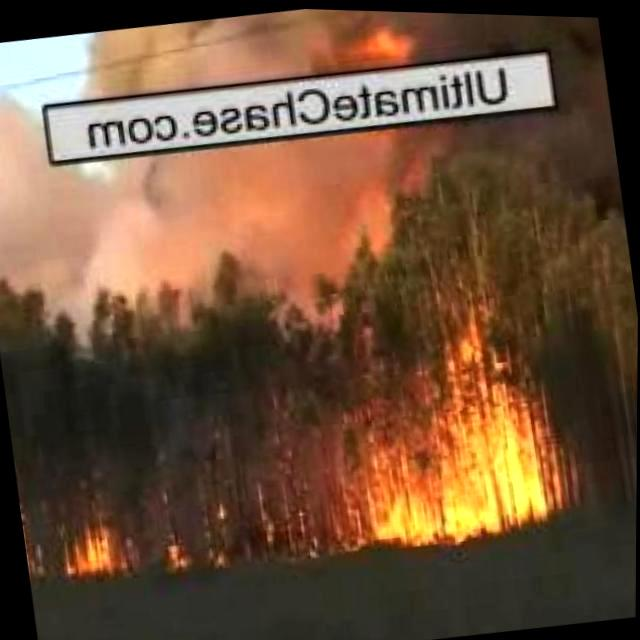fire: (332, 301, 568, 551), (195, 434, 331, 572), (62, 527, 130, 577), (352, 24, 418, 64), (22, 514, 46, 576), (156, 546, 192, 572)
